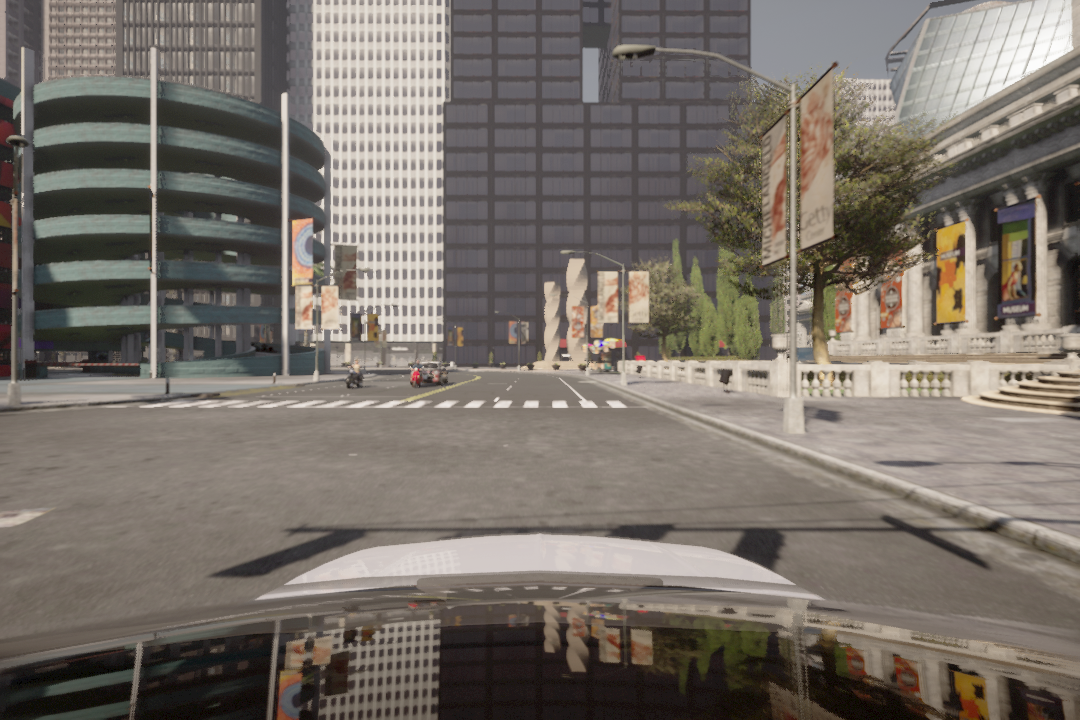walkside: (153, 396, 643, 415)
